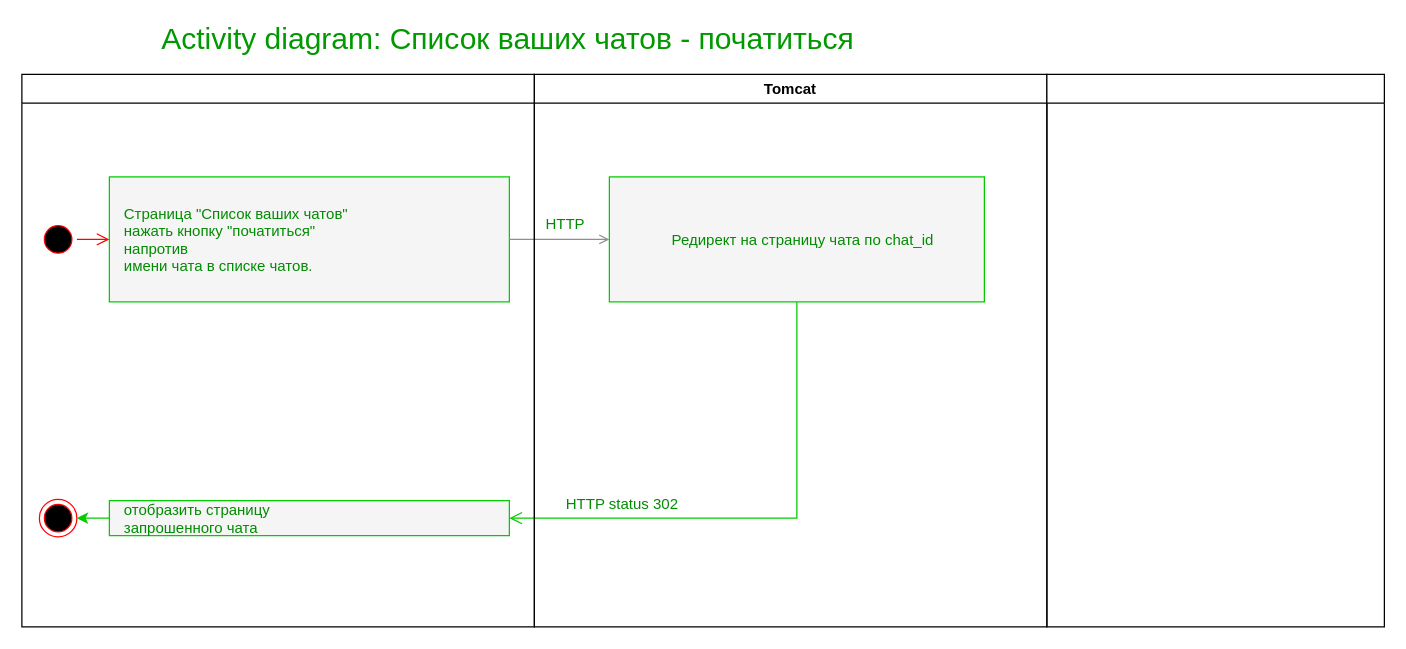
Some shapes in this 1406 by 649 pixel diagram are drawn without their labels. The shapes that lost their labels are listed below. From the top down, each one's box as (x1, y1, x2, y2) in pixels, then its label:
(21, 73, 534, 627): Браузер
(1046, 73, 1384, 627): PostgreSQL
